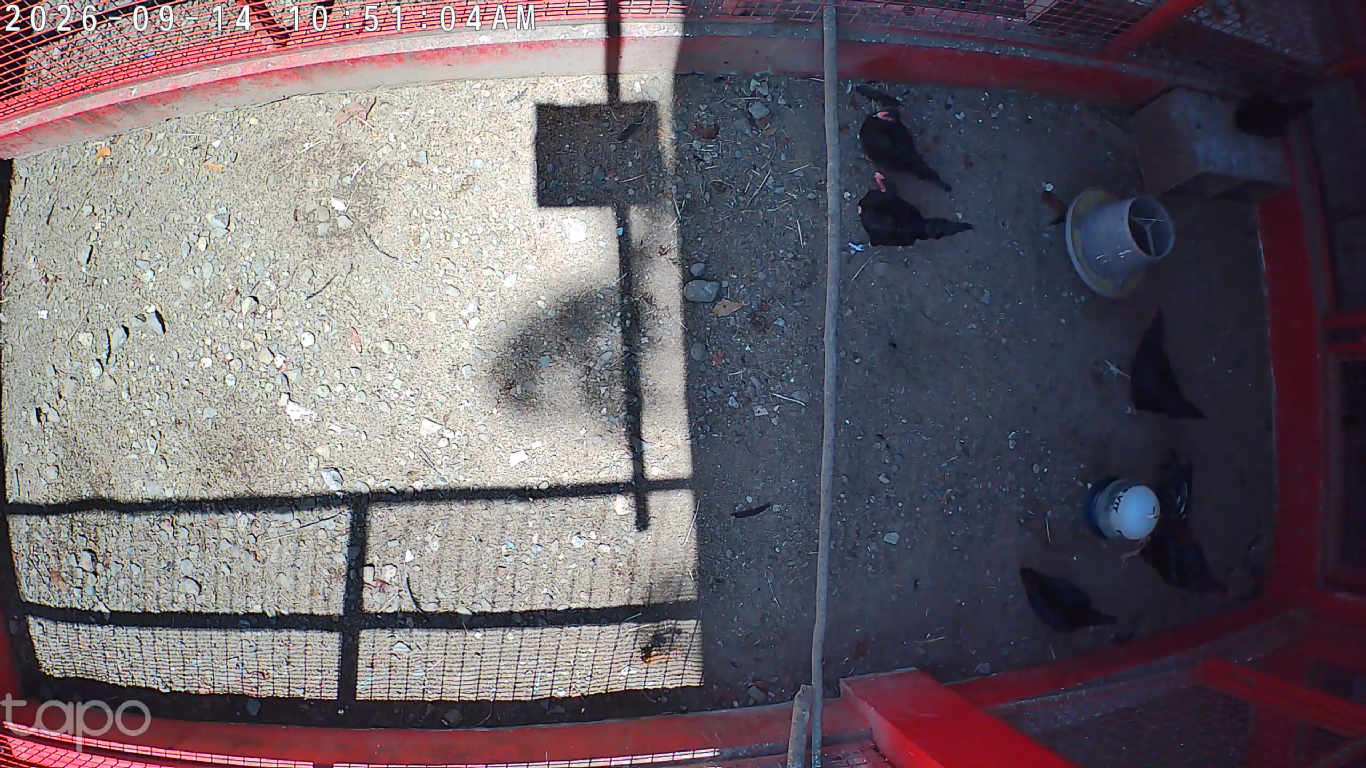Chicken: (1101, 305, 1210, 422), (842, 168, 975, 261), (859, 103, 954, 194), (1017, 564, 1120, 636)
Drinker: (1083, 473, 1166, 542)
Feeder: (1060, 184, 1183, 300)
Rooster: (1108, 449, 1235, 605)
